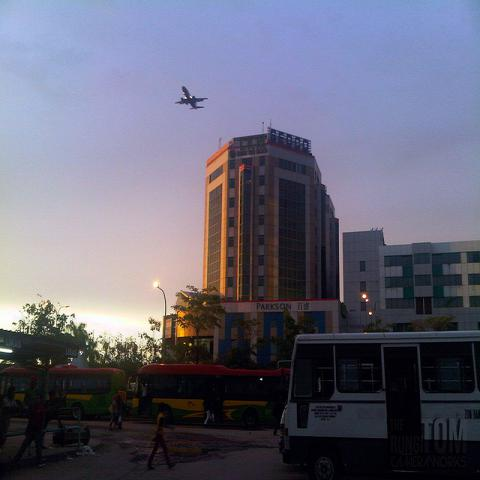bus: (277, 331, 479, 478), (130, 362, 290, 427), (43, 364, 127, 420)
